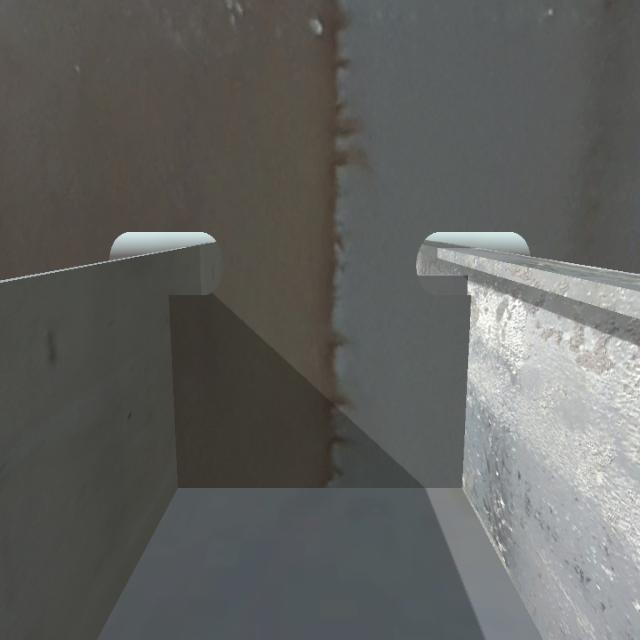fillet_yong_jeop_jang: (171, 480, 472, 495)
longi_yong_jeop_jang: (164, 286, 180, 484), (464, 267, 471, 501)
plate_behind: (423, 276, 475, 292)
